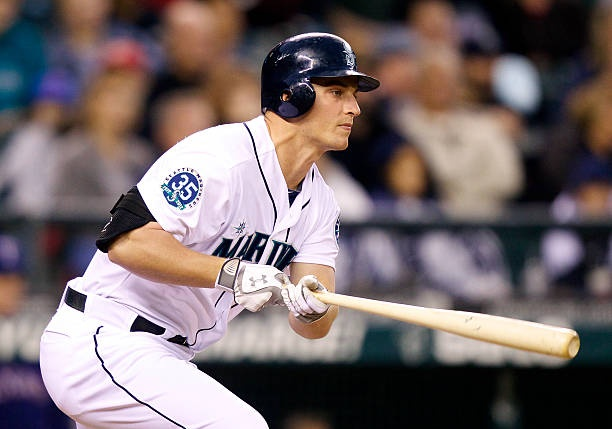bita: (291, 285, 587, 364)
